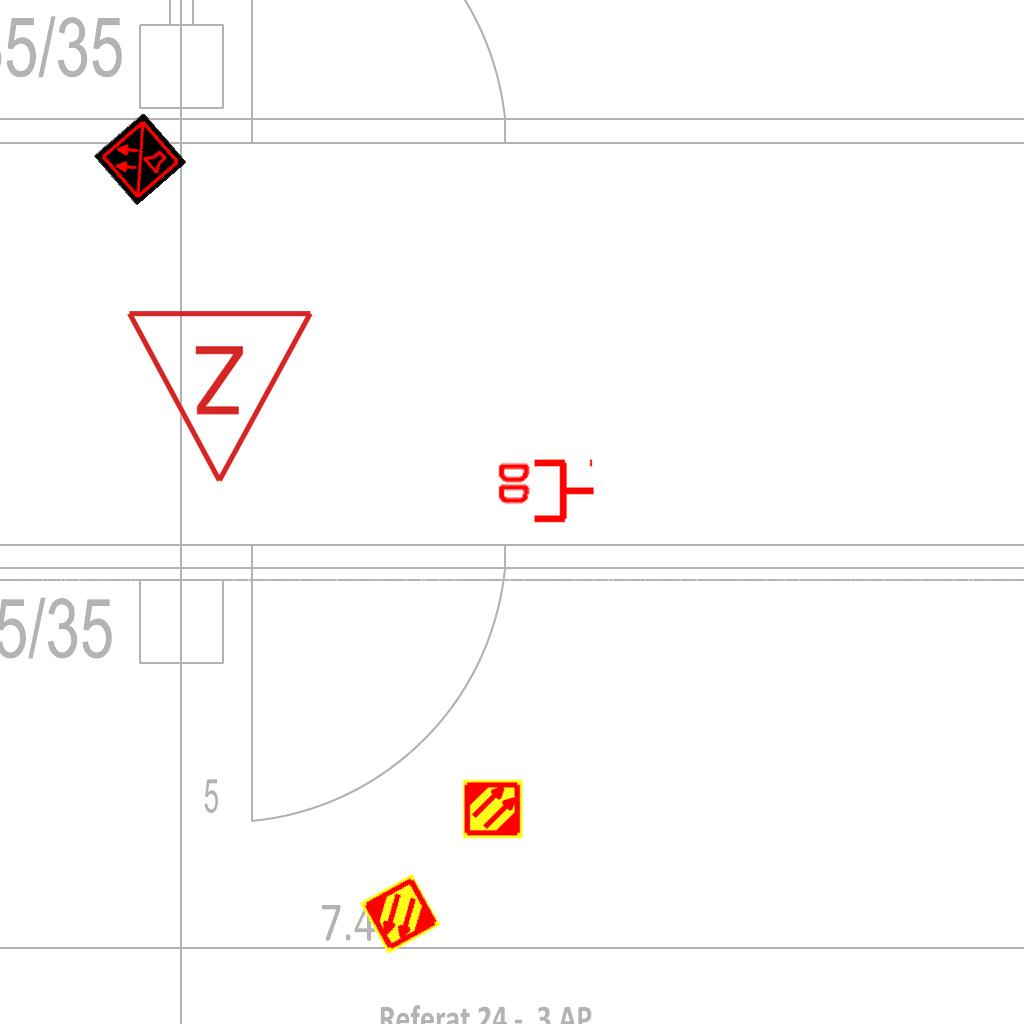ASR_Ansaugrauchmelder: (357, 871, 443, 957), (462, 778, 524, 840)
Datenanschluss_zweifach: (494, 458, 597, 527)
OKW_Multisensormelder_(Kombination_optischer_Rauch-Kahlenmonoxid_Waerme-Melder): (93, 112, 187, 206)
Zimmersignalleuchte: (124, 296, 320, 496)
